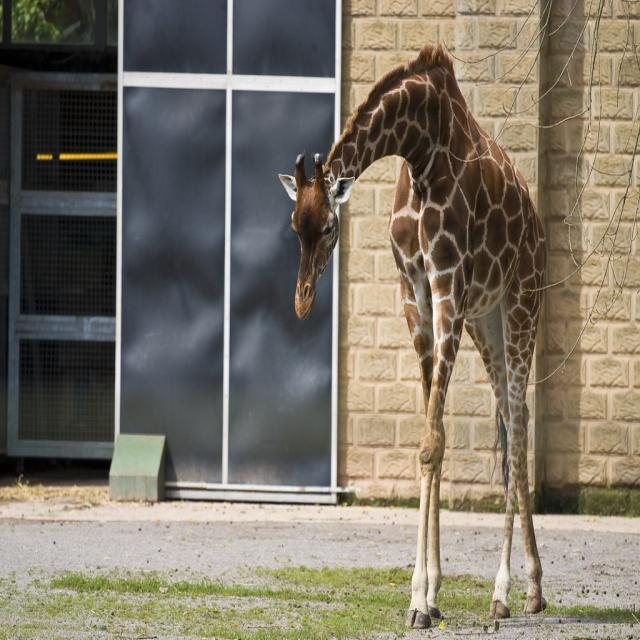girafee: (248, 37, 600, 624)
